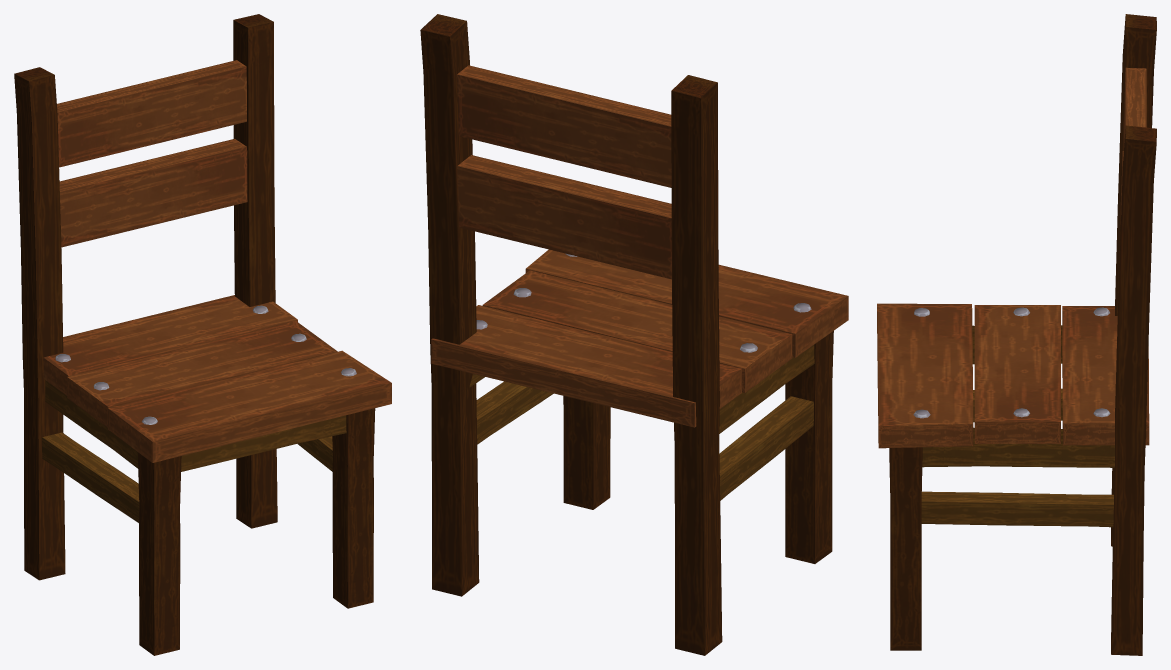
File: Chair_1.gltf
3 renders of one model, left to right at view 1: azimuth 30°, elevation 25°; view 2: azimuth 150°, elevation 25°; view 3: azimuth 270°, elevation 25°, orthographic. The views are drawn at different scales.
Visible parts, largest first — view 1: Chair_1; view 2: Chair_1; view 3: Chair_1.
Boxes of the visible parts, box(x1,y1,x2,y2) form: Chair_1: box(14, 14, 391, 655); Chair_1: box(420, 14, 848, 655); Chair_1: box(877, 14, 1156, 655).
Bounding box in the file's own units: 0.5805 × 1.12 × 0.5489.
2 materials, 2 textured.
